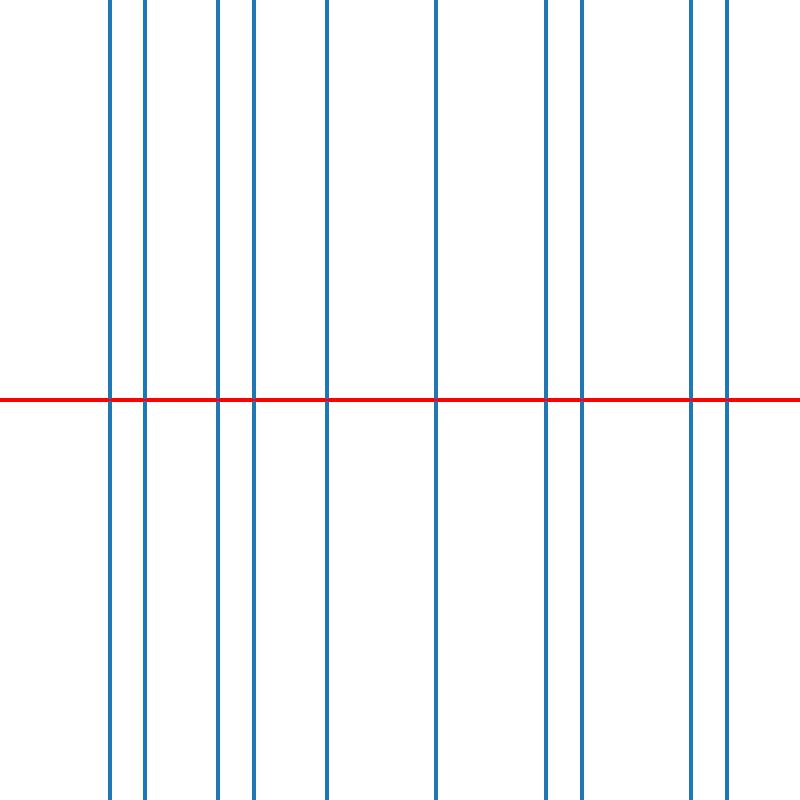root: (250, 396, 258, 404), (141, 396, 149, 404), (432, 396, 440, 404), (541, 396, 549, 404), (214, 396, 221, 404), (105, 396, 112, 404), (578, 396, 585, 404), (723, 396, 730, 404), (687, 396, 694, 404), (323, 396, 330, 404)
